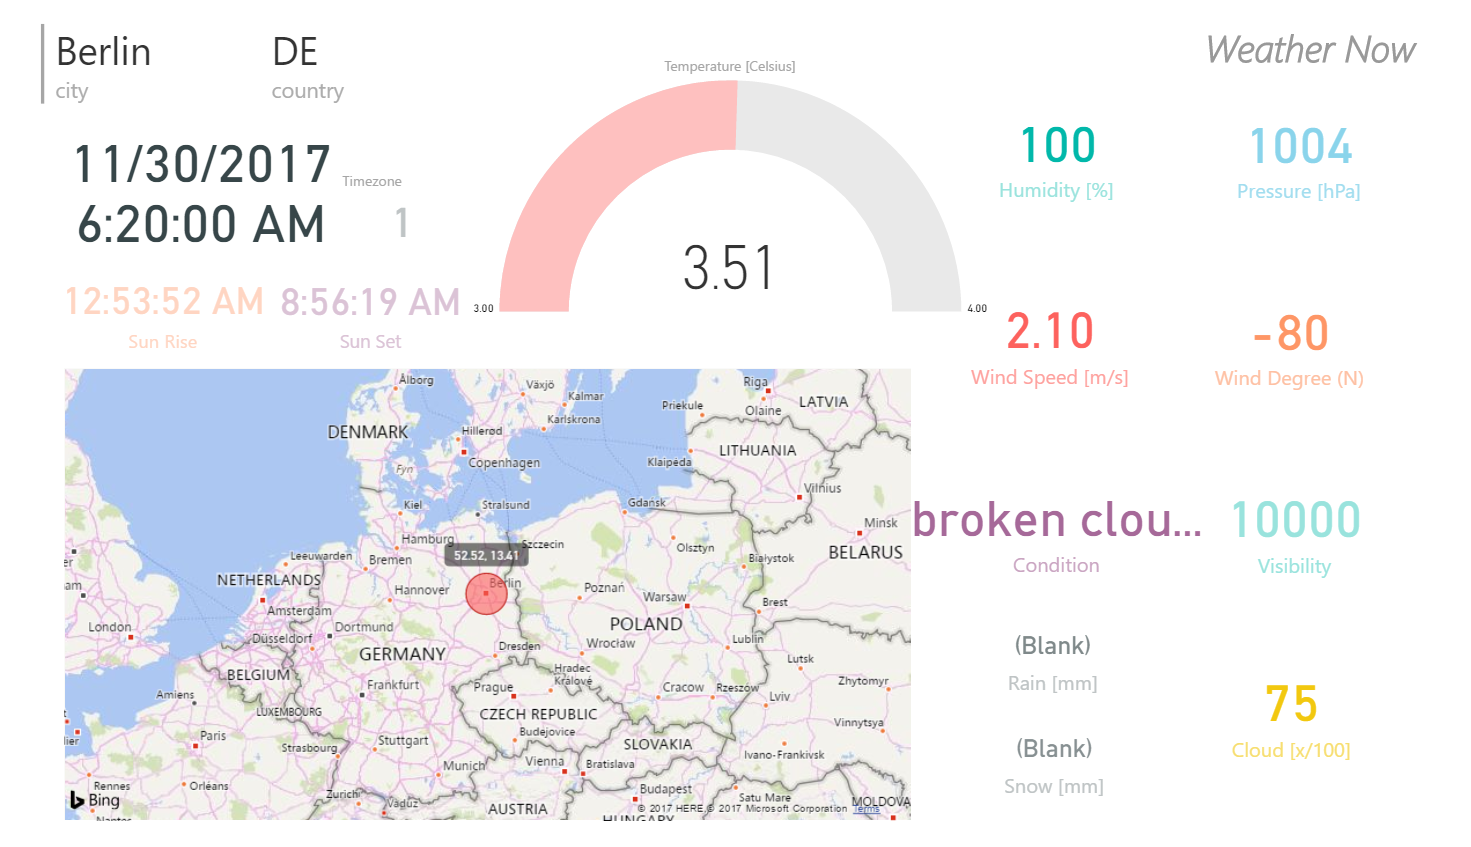

The page's visual inventory and layout, read from the dashboard file:
{"tool":"powerbi","page":{"name":"weather now","canvas":[1280,720],"ordinal":0},"visuals":[{"type":"map","fields":{"X":["weatherNow.longitude"],"Y":["weatherNow.latitude"]},"box":[55.3,299.9,740.7,416],"z":0},{"type":"multiRowCard","fields":{"Values":["weatherNow.city","weatherNow.country"]},"box":[34.5,1.4,396.6,96.7],"z":12},{"type":"card","fields":{"Values":["Sum(weatherNow.time_zone)"]},"box":[295.7,134,111.9,66.3],"z":12},{"type":"card","fields":{"Values":["CountNonNull(weatherNow.rain)"]},"box":[825,508.6,178.3,92.6],"z":13},{"type":"card","fields":{"Values":["CountNonNull(weatherNow.snow)"]},"box":[820.9,586,189.3,116.1],"z":13},{"type":"card","fields":{"Values":["Min(weatherNow.Sun Rise)"]},"box":[22.1,207.3,246,94],"z":15},{"type":"card","fields":{"Values":["Min(weatherNow.Sun Set)"]},"box":[201.8,207.3,246,94],"z":15},{"type":"card","fields":{"Values":["Sum(weatherNow.humidity)"]},"box":[778,55.3,279.2,124.4],"z":1000},{"type":"gauge","fields":{"Y":["Sum(weatherNow.temperature)"],"MinValue":["Sum(weatherNow.temperature_min)"],"MaxValue":["Sum(weatherNow.temperature_max)"]},"box":[396.6,34.5,478.2,230.8],"z":2000},{"type":"card","fields":{"Values":["Sum(weatherNow.wind_speed)"]},"box":[735.2,218.3,353.8,118.8],"z":3000},{"type":"card","fields":{"Values":["Sum(weatherNow.wind_degree)"]},"box":[957.7,221.1,322,117.5],"z":4000},{"type":"card","fields":{"Values":["Min(weatherNow.condition)"]},"box":[778,388.3,279.2,106.4],"z":5000},{"type":"card","fields":{"Values":["Sum(weatherNow.visibility)"]},"box":[984,377.3,279.2,128.5],"z":6000},{"type":"card","fields":{"Values":["Sum(weatherNow.cloud)"]},"box":[981,536.8,279.2,128.8],"z":6000},{"type":"card","fields":{"Values":["Sum(weatherNow.pressure)"]},"box":[990.9,59.4,273.6,117.5],"z":7000},{"type":"card","fields":{"Values":["Min(weatherNow.client_time)"]},"box":[34.5,80.2,286.1,135.4],"z":8000},{"type":"textbox","box":[1041.3,0,238.6,58.3],"z":9000}]}

Visuals, with their boxes in screenshot pixels (x1, y1, x2, y2), scaled from the page's 1280x720 canvas onto the 1471x847 screenshot:
map - weatherNow.longitude x weatherNow.latitude: (x1=64, y1=353, x2=915, y2=842)
multiRowCard - weatherNow.city x weatherNow.country: (x1=40, y1=2, x2=495, y2=115)
card - Sum(weatherNow.time_zone): (x1=340, y1=158, x2=468, y2=236)
card - CountNonNull(weatherNow.rain): (x1=948, y1=598, x2=1153, y2=707)
card - CountNonNull(weatherNow.snow): (x1=943, y1=689, x2=1161, y2=826)
card - Min(weatherNow.Sun Rise): (x1=25, y1=244, x2=308, y2=354)
card - Min(weatherNow.Sun Set): (x1=232, y1=244, x2=515, y2=354)
card - Sum(weatherNow.humidity): (x1=894, y1=65, x2=1215, y2=211)
gauge - Sum(weatherNow.temperature) x Sum(weatherNow.temperature_min): (x1=456, y1=41, x2=1005, y2=312)
card - Sum(weatherNow.wind_speed): (x1=845, y1=257, x2=1251, y2=397)
card - Sum(weatherNow.wind_degree): (x1=1101, y1=260, x2=1470, y2=398)
card - Min(weatherNow.condition): (x1=894, y1=457, x2=1215, y2=582)
card - Sum(weatherNow.visibility): (x1=1131, y1=444, x2=1452, y2=595)
card - Sum(weatherNow.cloud): (x1=1127, y1=631, x2=1448, y2=783)
card - Sum(weatherNow.pressure): (x1=1139, y1=70, x2=1453, y2=208)
card - Min(weatherNow.client_time): (x1=40, y1=94, x2=368, y2=254)
textbox: (x1=1197, y1=0, x2=1470, y2=69)
